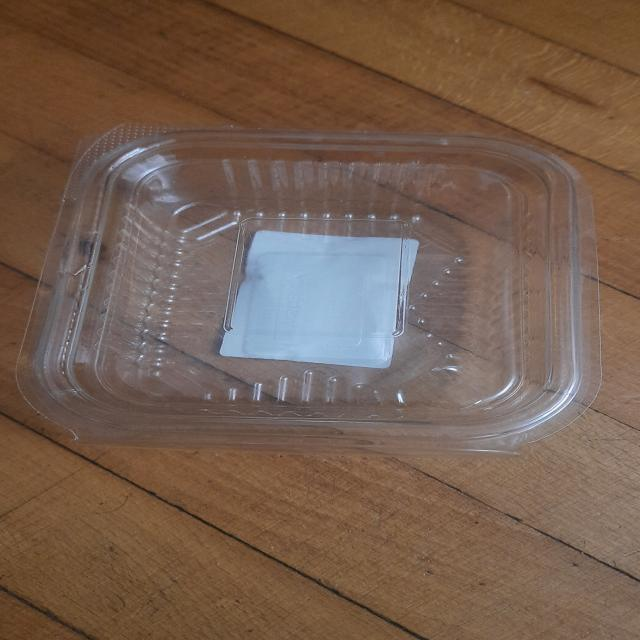plastic: (18, 129, 603, 462)
